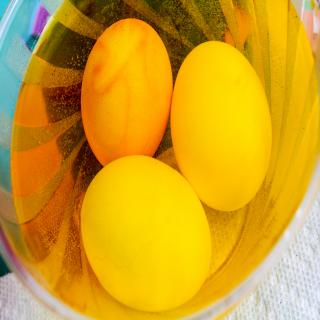Egg: (80, 153, 213, 314), (170, 39, 273, 212), (79, 19, 173, 168)
